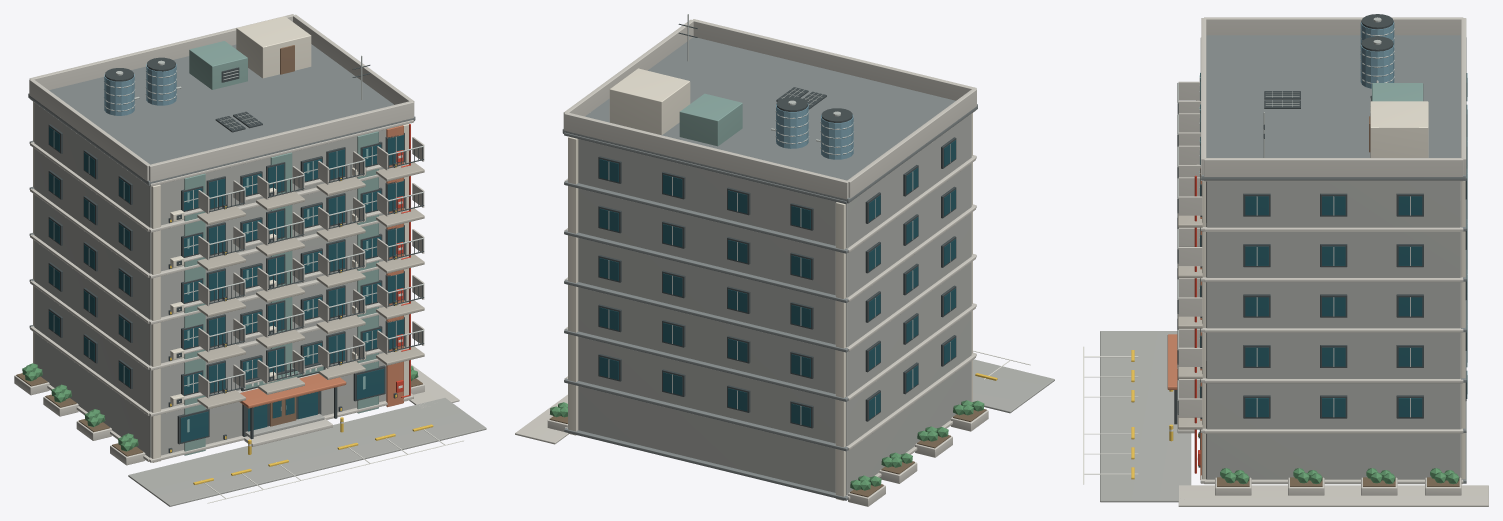
File: RESIDENTIAL_APARTMENT.fbx
The picture shows the model from 3 angles, left to right: view 1: azimuth 30°, elevation 25°; view 2: azimuth 150°, elevation 25°; view 3: azimuth 270°, elevation 25°; orthographic projection. The views are drawn at different scales.
Visible parts, largest first — view 1: Main apartment building mass, Flat roof slab, Front entrance forecourt, Front roof parapet, Rooftop stair headhouse, Rear roof parapet, Front corner pier, Side roof parapet, Vertical sage facade accent, Vertical sage facade accent.002, Lift motor room, Side roof parapet.001 (+40 smaller); view 2: Main apartment building mass, Flat roof slab, Rear roof parapet, Front roof parapet, Rooftop stair headhouse, Rear corner pier, Rear corner pier.001, Side roof parapet, Front entrance forecourt, Lift motor room, Side roof parapet.001, Rear floor slab band.004 (+14 smaller); view 3: Main apartment building mass, Flat roof slab, Front entrance forecourt, Side access pavement, Side roof parapet.001, Side roof parapet, Rooftop stair headhouse, Rear corner pier.001, Side floor slab band.009, Side floor slab band.003, Side floor slab band.005, Side floor slab band.011 (+30 smaller).
Boxes of the visible parts, bbox=[...] form: Main apartment building mass: bbox=[34, 102, 386, 457]; Flat roof slab: bbox=[28, 44, 415, 185]; Front entrance forecourt: bbox=[128, 398, 486, 506]; Front roof parapet: bbox=[149, 101, 413, 181]; Rooftop stair headhouse: bbox=[236, 16, 311, 78]; Rear roof parapet: bbox=[29, 14, 294, 89]; Front corner pier: bbox=[151, 184, 160, 462]; Side roof parapet: bbox=[29, 79, 149, 181]; Vertical sage facade accent: bbox=[184, 173, 205, 455]; Vertical sage facade accent.002: bbox=[357, 131, 378, 413]; Lift motor room: bbox=[189, 41, 247, 89]; Side roof parapet.001: bbox=[293, 14, 414, 115]; Main apartment building mass: bbox=[578, 114, 971, 495]; Flat roof slab: bbox=[562, 37, 977, 203]; Rear roof parapet: bbox=[564, 112, 848, 199]; Front roof parapet: bbox=[692, 19, 976, 100]; Rooftop stair headhouse: bbox=[609, 68, 690, 134]; Rear corner pier: bbox=[835, 202, 845, 500]; Rear corner pier.001: bbox=[568, 136, 578, 435]; Side roof parapet: bbox=[847, 89, 976, 198]; Front entrance forecourt: bbox=[973, 359, 1054, 413]; Lift motor room: bbox=[679, 93, 742, 146]; Side roof parapet.001: bbox=[563, 19, 693, 127]; Rear floor slab band.004: bbox=[564, 229, 848, 302]; Main apartment building mass: bbox=[1206, 181, 1461, 479]; Flat roof slab: bbox=[1201, 35, 1465, 180]; Front entrance forecourt: bbox=[1100, 331, 1191, 502]; Side access pavement: bbox=[1178, 485, 1488, 506]; Side roof parapet.001: bbox=[1204, 158, 1463, 176]; Side roof parapet: bbox=[1204, 17, 1463, 35]; Rooftop stair headhouse: bbox=[1370, 101, 1428, 157]; Rear corner pier.001: bbox=[1461, 181, 1465, 479]; Side floor slab band.009: bbox=[1204, 277, 1463, 282]; Side floor slab band.003: bbox=[1204, 428, 1463, 433]; Side floor slab band.005: bbox=[1204, 378, 1463, 383]; Side floor slab band.011: bbox=[1204, 227, 1463, 231].
Size of the model in its own units: 2260 by 2195 by 2223.
